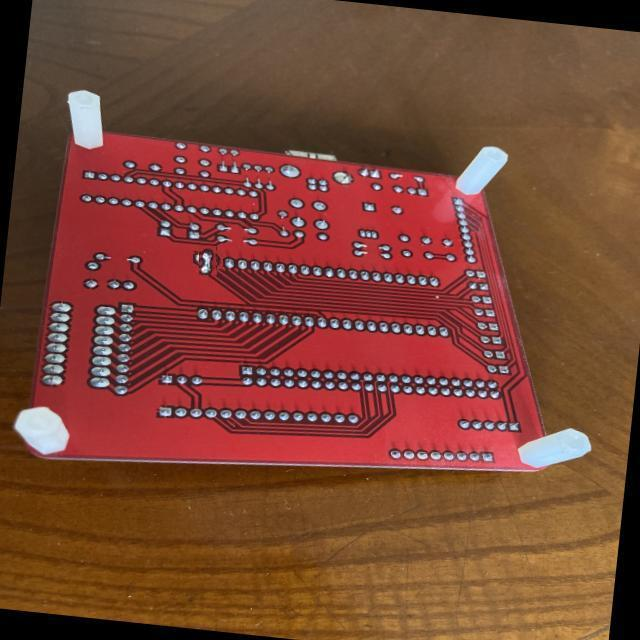damged: (196, 248, 220, 272)
